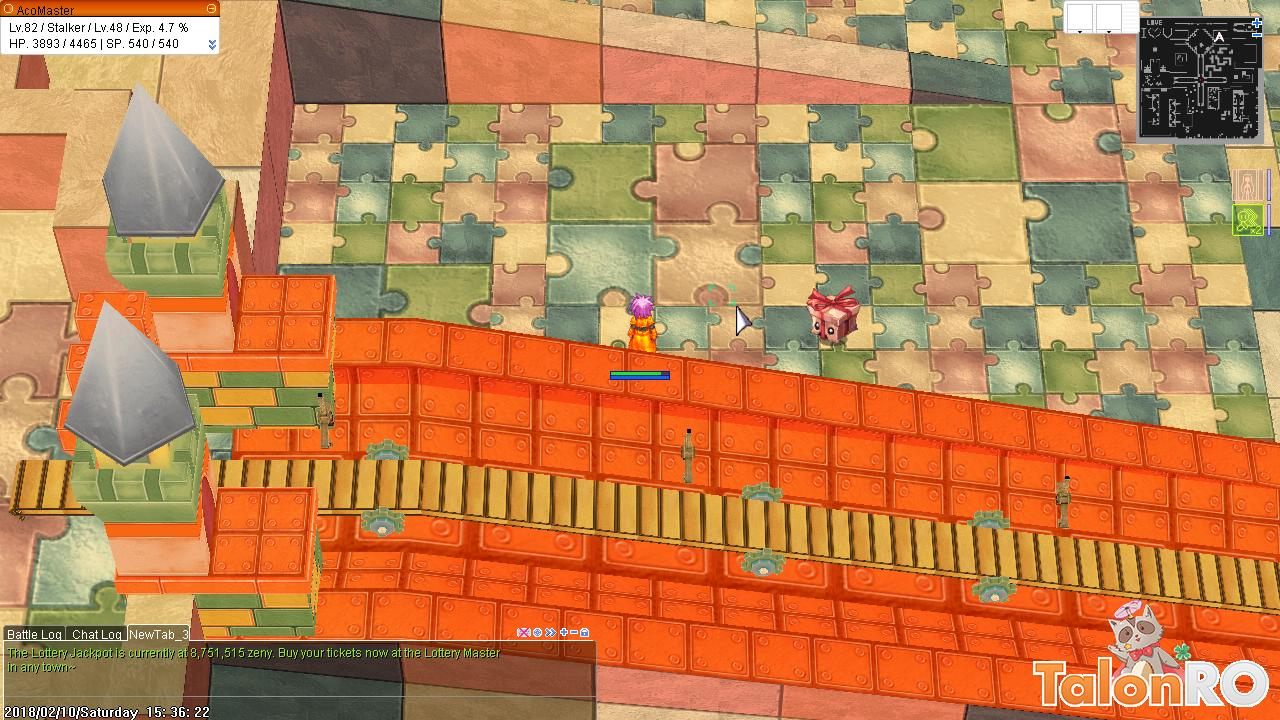myst_case: (804, 281, 863, 348)
